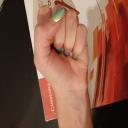Fist: (34, 2, 90, 99)
